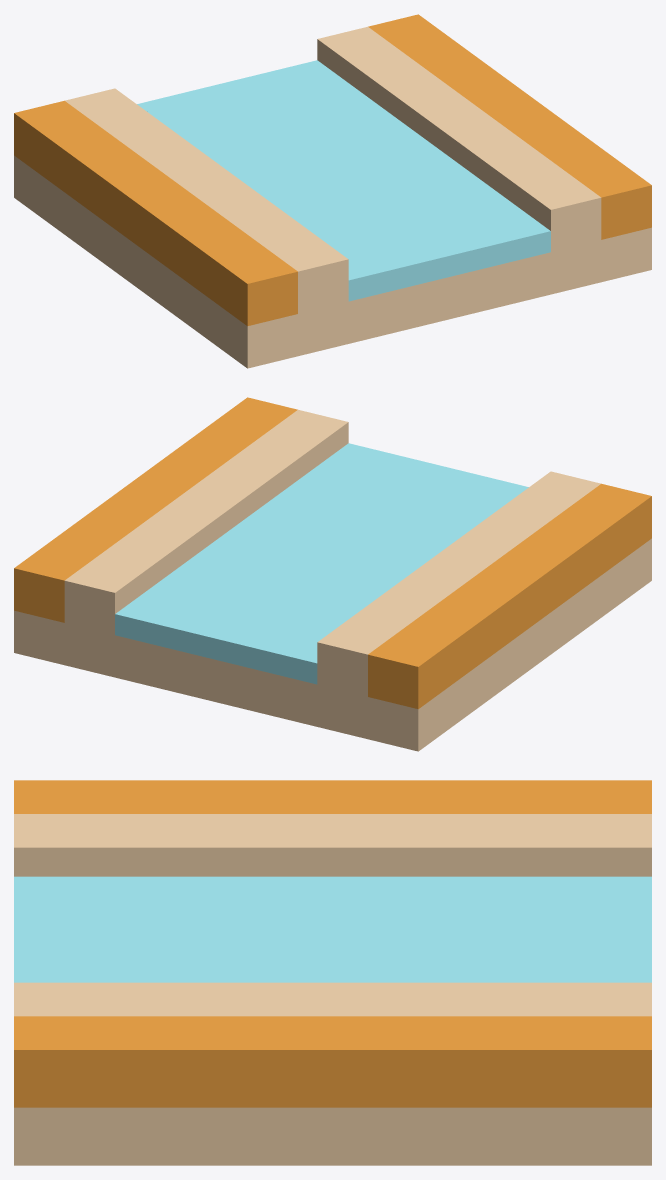
File: autumn_river_straight.fbx
The picture shows the model from 3 angles, top to bottom: view 1: azimuth 30°, elevation 25°; view 2: azimuth 150°, elevation 25°; view 3: azimuth 270°, elevation 25°; orthographic projection. The views are drawn at different scales.
Visible parts, largest first — view 1: tile_riverStraight; view 2: tile_riverStraight; view 3: tile_riverStraight.
Part boxes in pixels (box(x1,y1,x2,y2)): tile_riverStraight: box(14, 14, 651, 368); tile_riverStraight: box(14, 397, 651, 751); tile_riverStraight: box(14, 780, 651, 1165).
Bounding box in the file's own units: 100 × 20 × 100.
